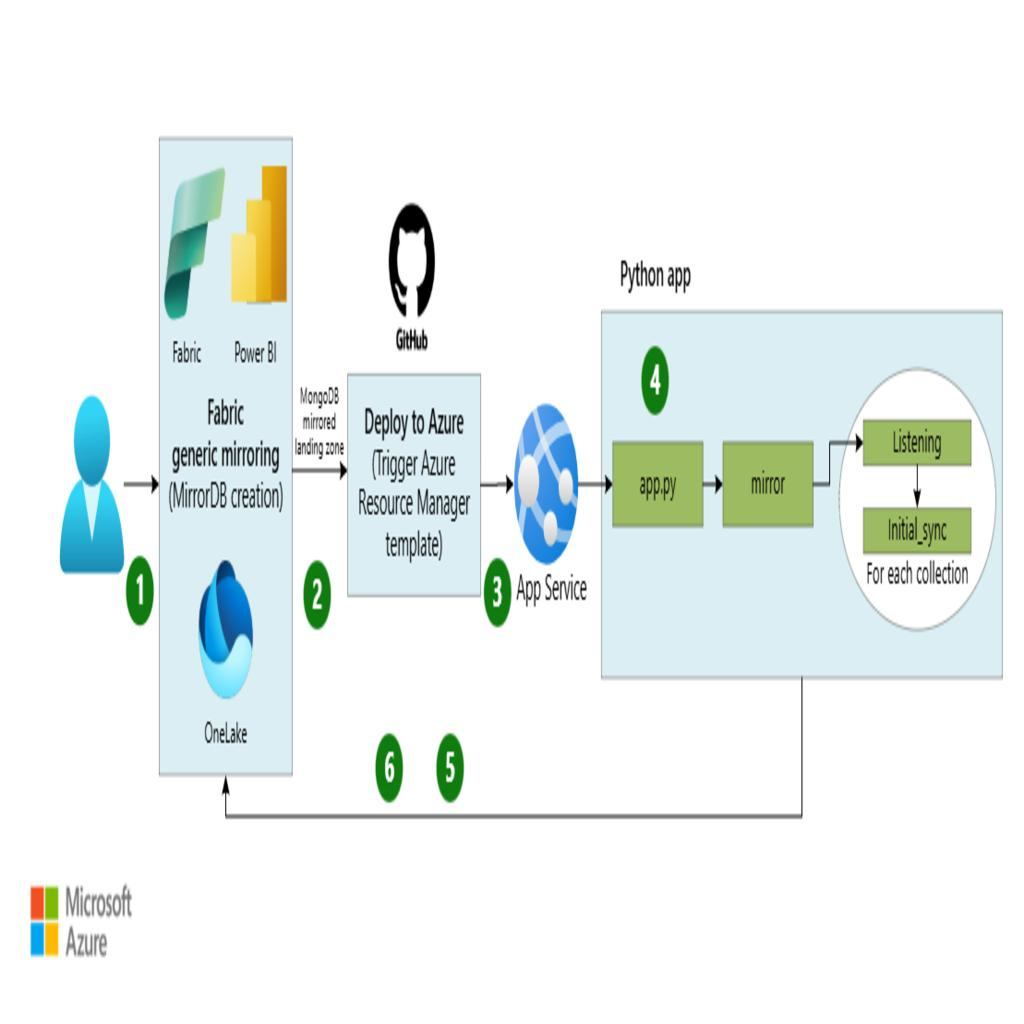actor: (56, 394, 124, 574), (388, 234, 434, 318)
compute: (347, 371, 480, 598), (166, 166, 285, 304), (514, 413, 578, 556), (612, 441, 702, 528), (723, 441, 813, 528), (862, 416, 971, 465), (862, 506, 971, 555)
data_flow: (226, 678, 800, 816), (813, 438, 827, 484), (292, 468, 345, 474), (914, 465, 919, 506), (124, 482, 155, 487), (480, 482, 511, 487), (701, 482, 726, 487), (578, 482, 598, 487)
database_storage: (199, 568, 252, 686)
trust_boundary: (601, 307, 1003, 678), (159, 137, 292, 772)
